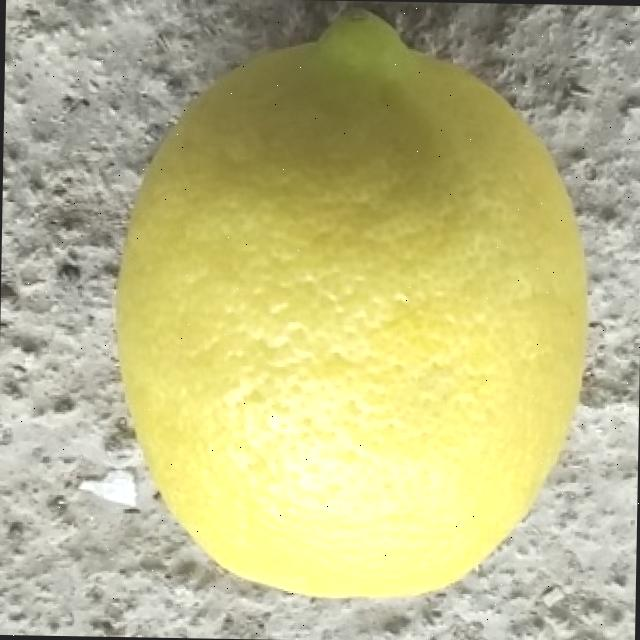Lemon: (110, 4, 596, 604)
